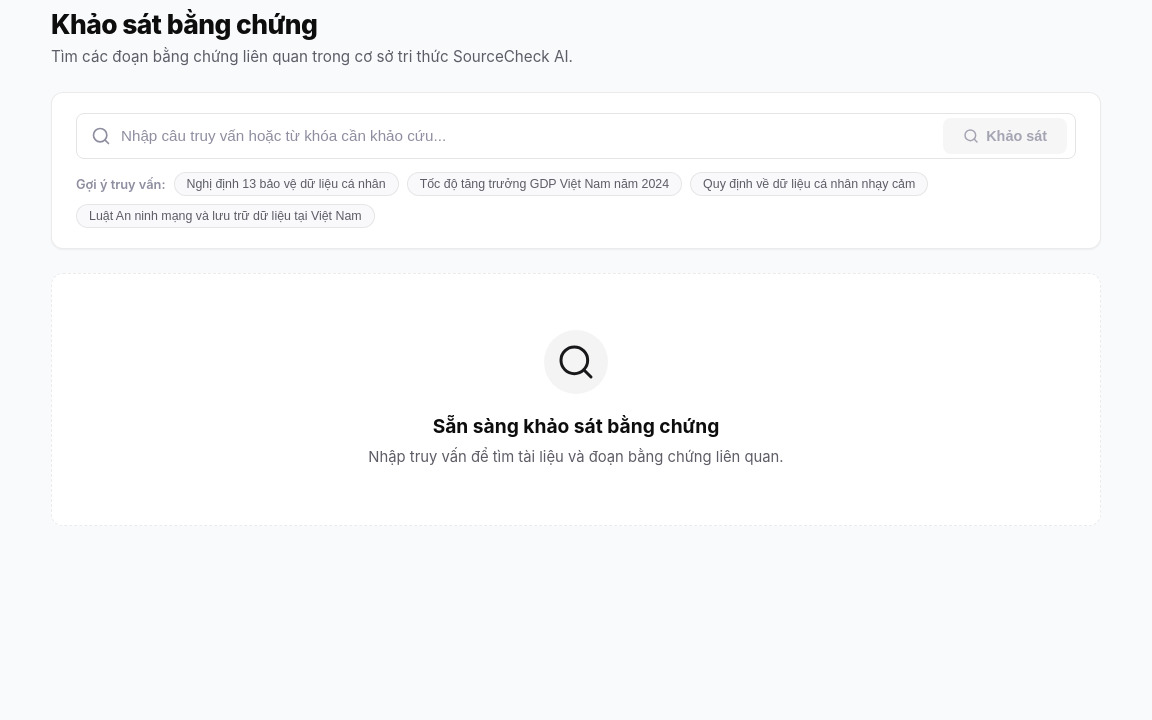
Search & Retrieval Explorer Feature (FE-04.6B) › 2. Query Execution & Results Rendering › uses the system-managed hybrid retrieval defaults
In the field with test id "search-query-input": coordinates (532, 136) [121,120,943,152], type "Evidence query"
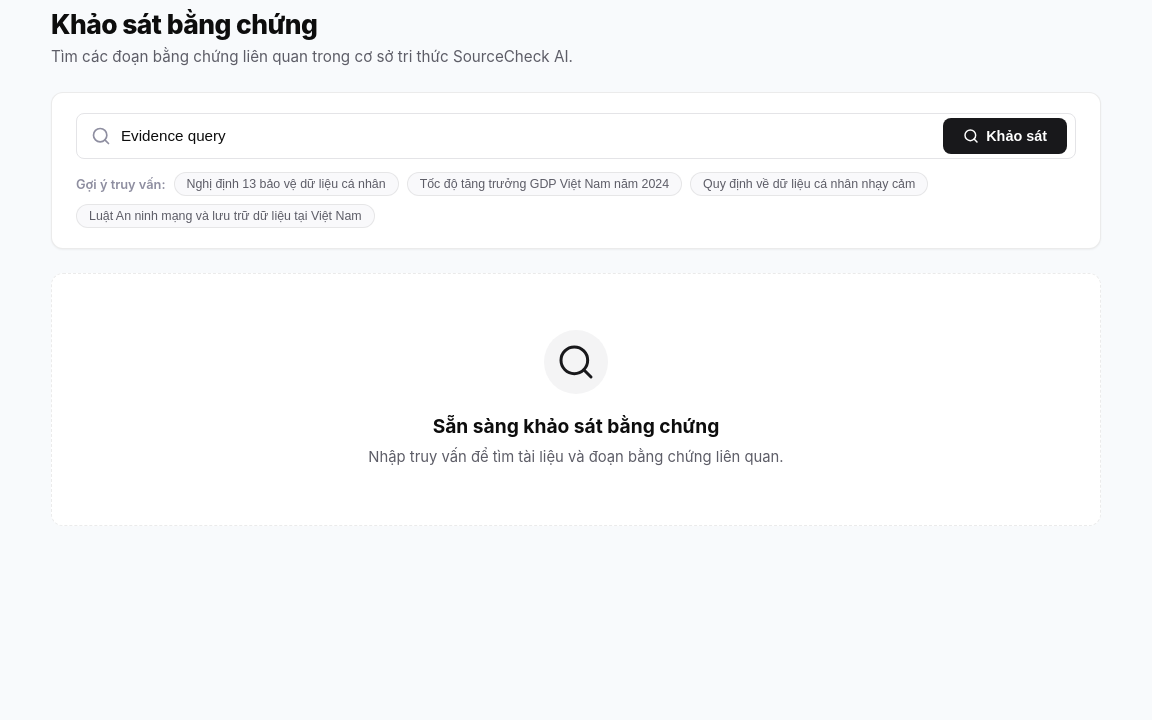
Click the button with test id "btn-execute-search": coordinates (1005, 136) [943,118,1067,154]
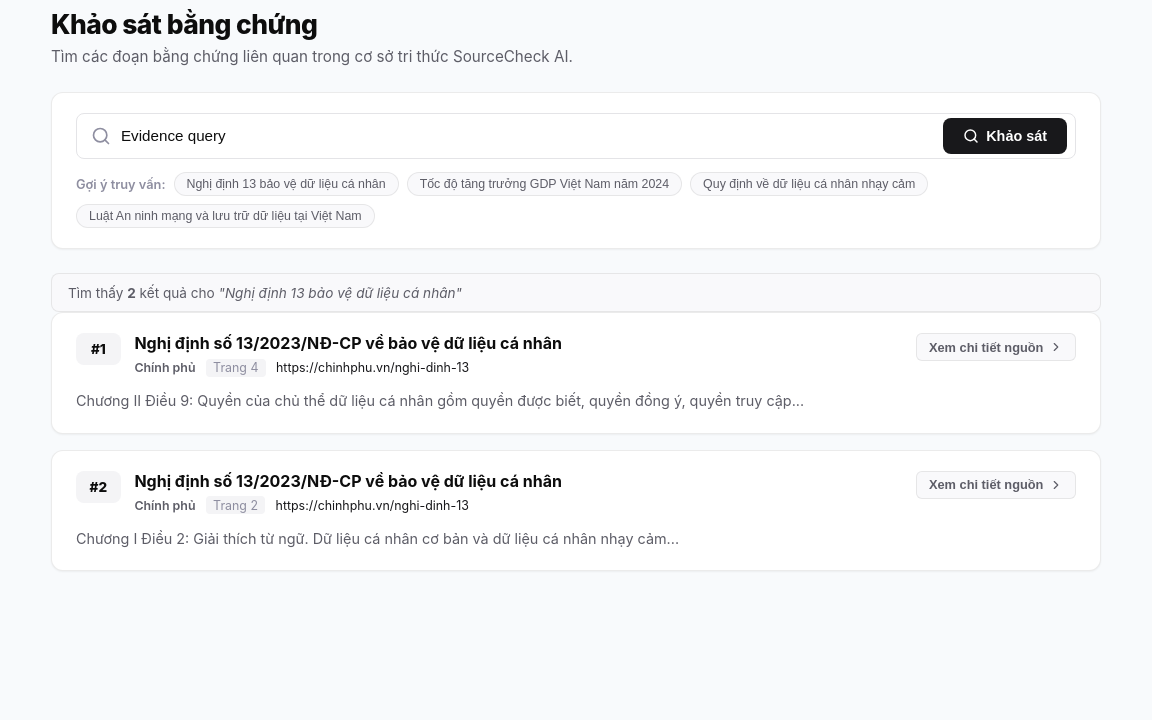
Check: the element with test id "search-results-section" is shown, box [51,273,1101,571]
